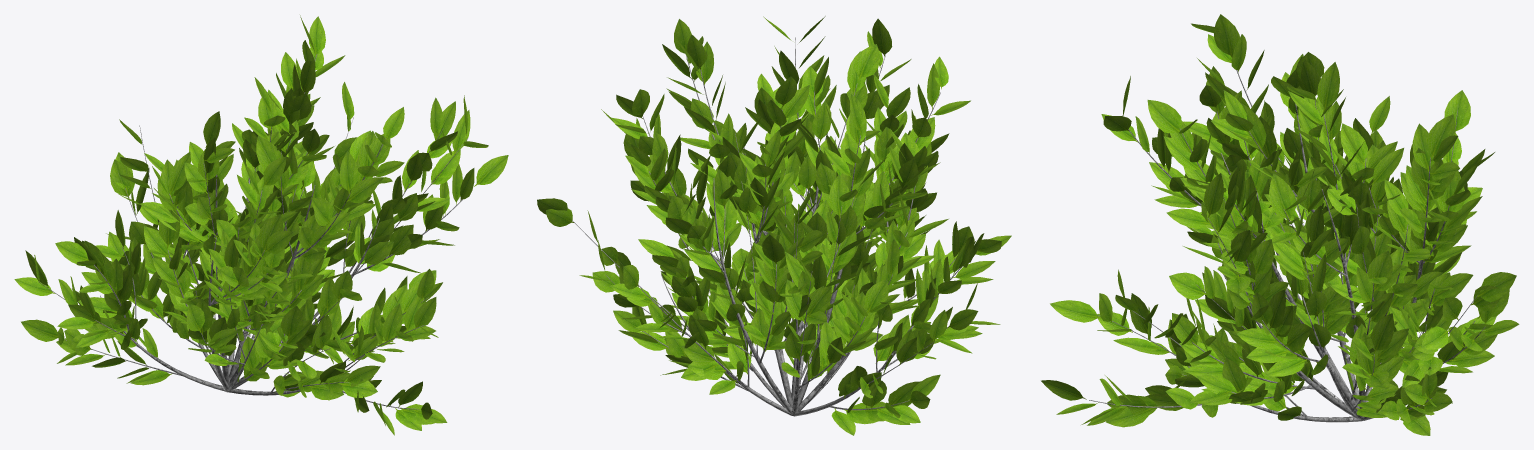
3 views of the same model, side by side, from view 1: azimuth 30°, elevation 25°; view 2: azimuth 150°, elevation 25°; view 3: azimuth 270°, elevation 25° (orthographic). The views are drawn at different scales.
Parts seen in each view (by area): view 1: Leaves, Branches; view 2: Leaves, Branches; view 3: Leaves, Branches.
Boxes of the visible parts, x1=… form: Leaves: x1=14, y1=15, x2=508, y2=435; Branches: x1=38, y1=54, x2=467, y2=409; Leaves: x1=537, y1=16, x2=1011, y2=435; Branches: x1=572, y1=37, x2=961, y2=416; Leaves: x1=1041, y1=14, x2=1519, y2=435; Branches: x1=1089, y1=70, x2=1485, y2=422.
Size of the model in its own units: 46 by 33.4 by 39.32.
